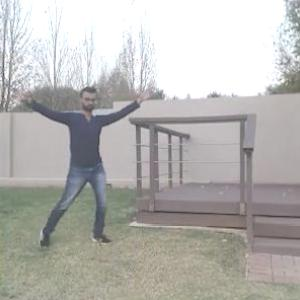takeoff: (0, 83, 144, 244)
